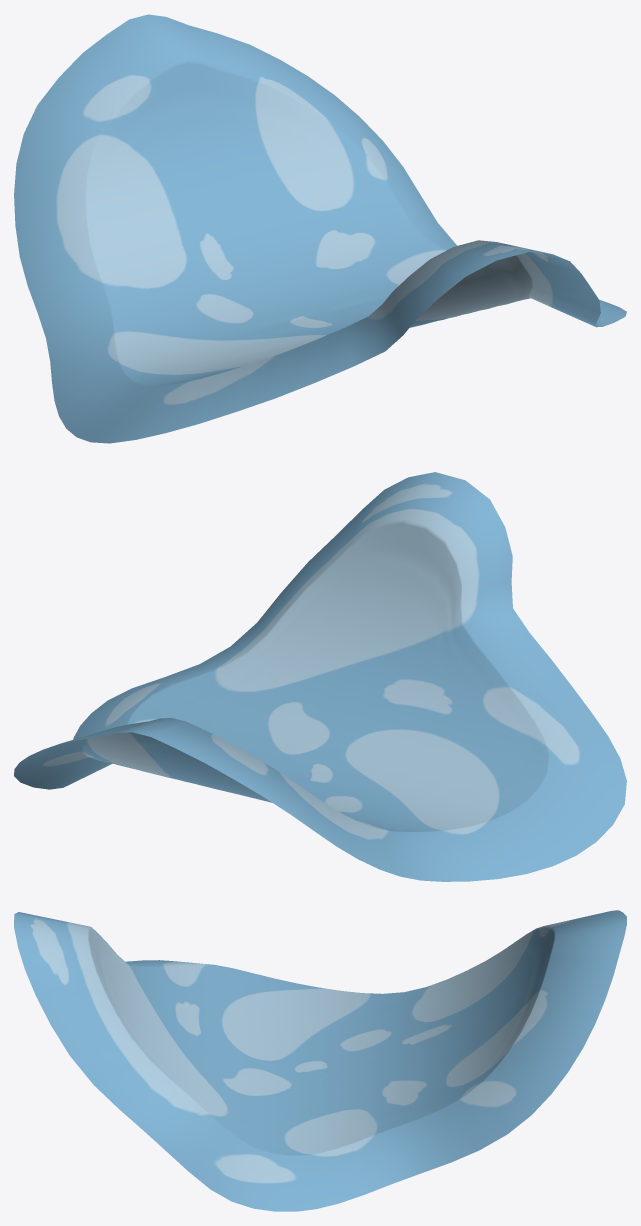
Rendered from Large Water Puddle.fbx.
3 renders of one model, top to bottom at view 1: azimuth 30°, elevation 25°; view 2: azimuth 150°, elevation 25°; view 3: azimuth 270°, elevation 25°, orthographic. The views are drawn at different scales.
Parts seen in each view (by area): view 1: Large; view 2: Large; view 3: Large.
Part boxes in pixels (left/top/right/bottom): Large: left=14, top=14, right=626, bottom=443; Large: left=14, top=472, right=626, bottom=881; Large: left=14, top=910, right=626, bottom=1211.
Bounding box in the file's own units: 50.55 × 19.51 × 56.74.
1 material, 1 textured.
